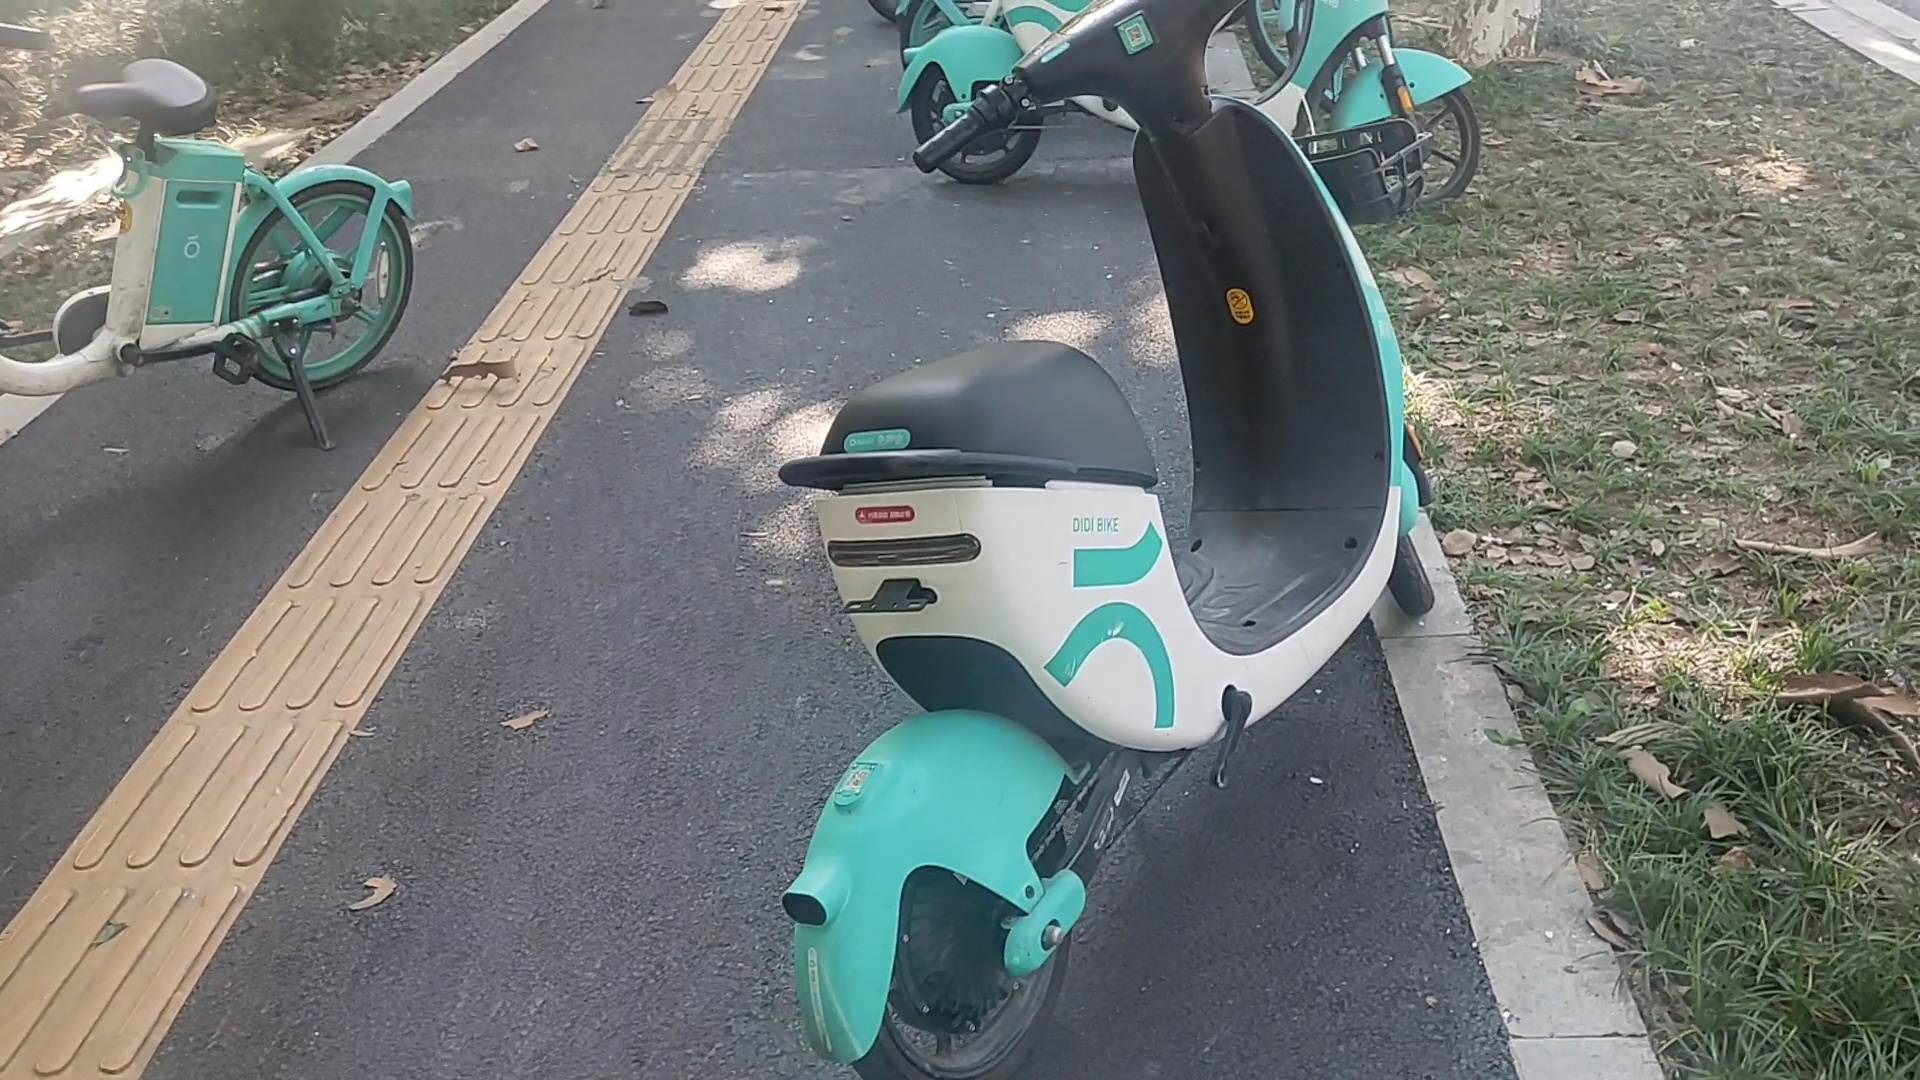non-vehicle: (724, 0, 1458, 1080), (8, 44, 411, 468), (877, 1, 1494, 208)
